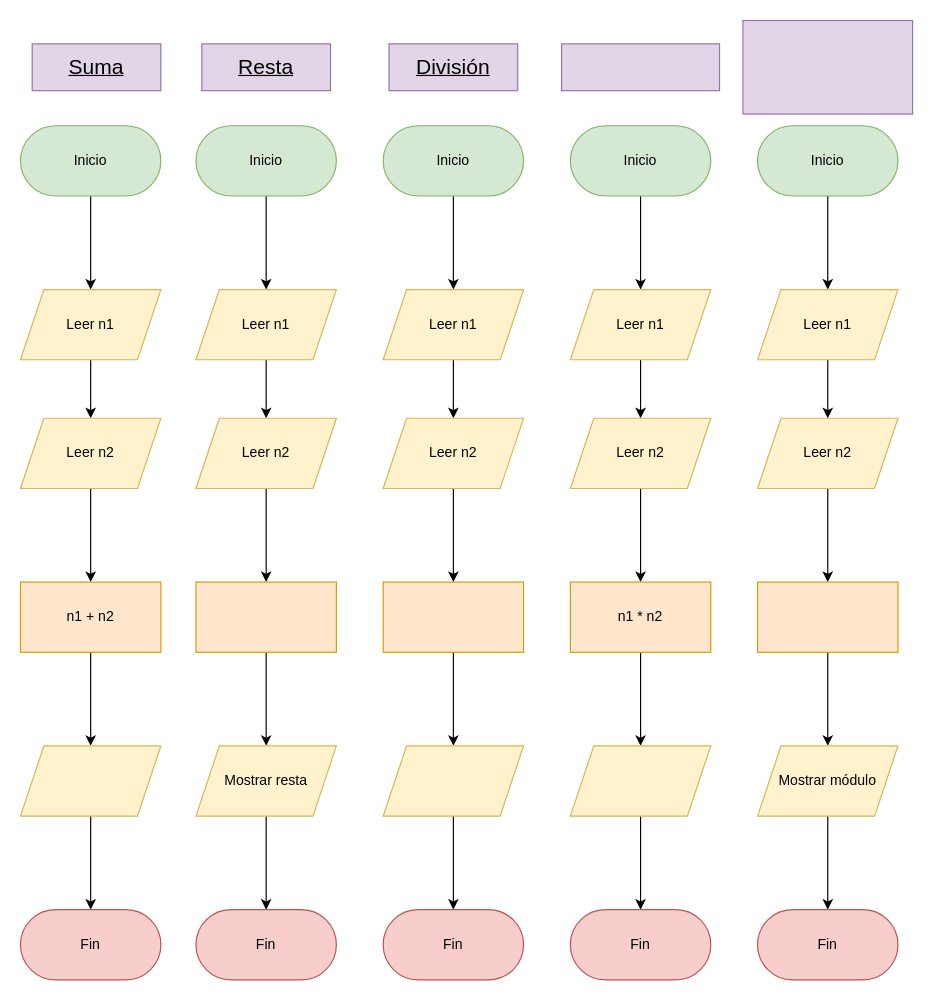
This 934x1000 diagram has some shape labels left out. The shapes that lost their labels are listed below. From the top down, each one's centre as x and y in pixels, then its label:
At point 640,67: "Multiplicación".
At point 827,66: "Resto división o modulo".
At point 265,616: "n1 - n2".
At point 453,616: "n1 / n2".
At point 827,616: "n1 % n2".
At point 90,780: "Mostrar suma".
At point 453,780: "Mostrar división".
At point 640,780: "Mostrar multiplicación".
